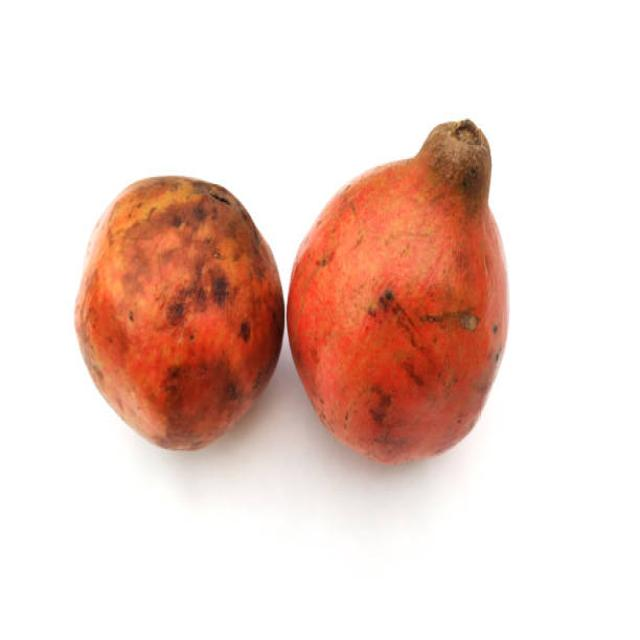overripe: (286, 115, 515, 465), (65, 170, 288, 457)
